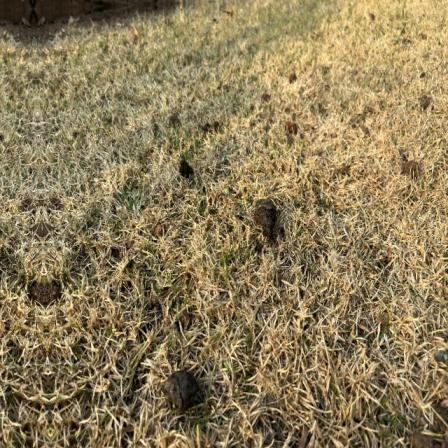dog-poop: (159, 361, 204, 419), (246, 193, 288, 243)
